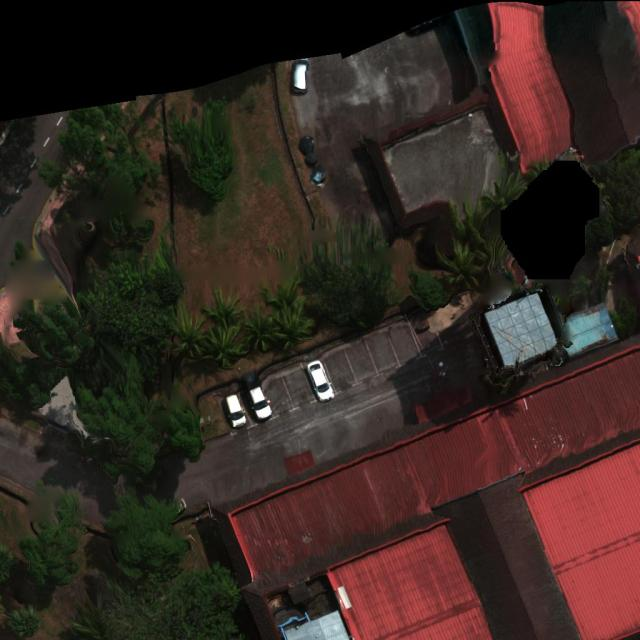Tree: (69, 560, 248, 640), (297, 212, 400, 331), (39, 102, 161, 198), (76, 259, 188, 354), (104, 486, 191, 582), (167, 95, 236, 203), (18, 489, 88, 586), (584, 144, 640, 252), (12, 296, 83, 366), (434, 239, 484, 290), (272, 299, 318, 352), (170, 300, 207, 360), (202, 321, 250, 367), (480, 168, 530, 212), (240, 304, 282, 354), (406, 268, 450, 314), (201, 288, 248, 330), (451, 198, 493, 240), (2, 604, 43, 638), (260, 278, 300, 310), (608, 297, 638, 339), (0, 542, 16, 582), (568, 275, 592, 301), (596, 264, 616, 292)
